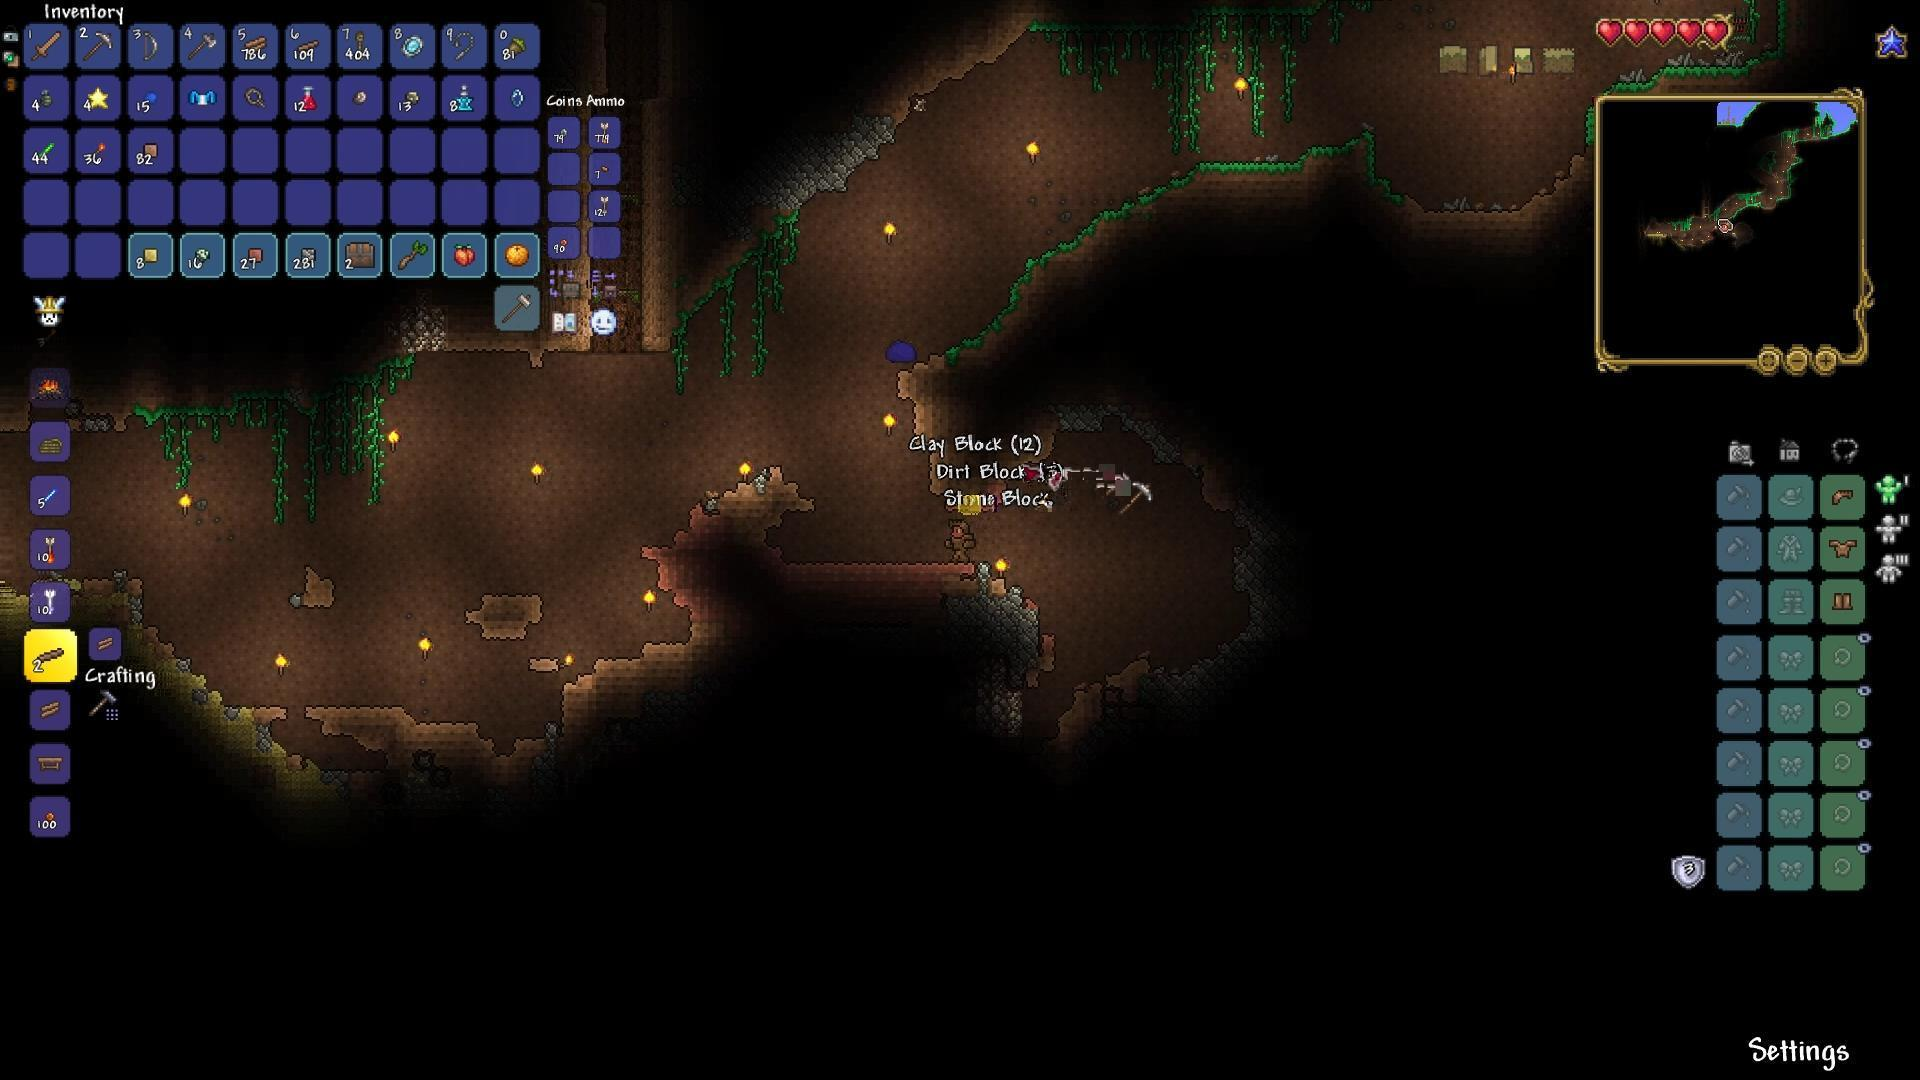chest: (343, 235, 377, 270)
grenade: (87, 84, 112, 111), (34, 84, 59, 109)
potion: (299, 83, 315, 116)
recallP: (456, 80, 475, 113)
slime: (887, 335, 916, 364)
